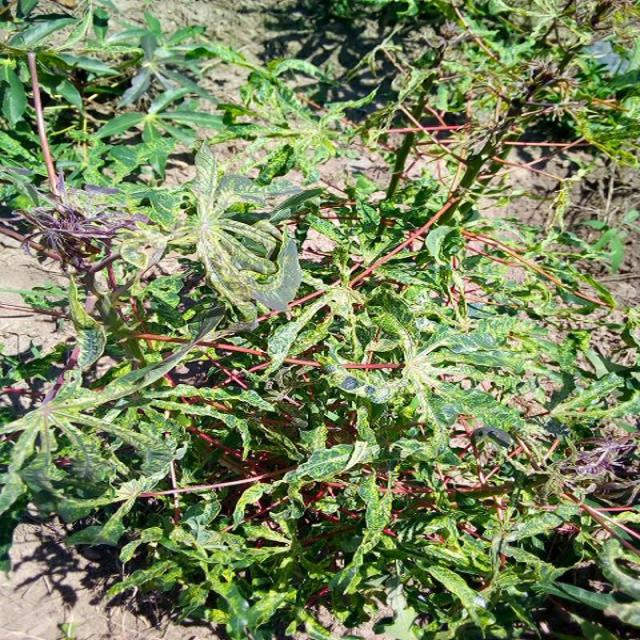cassava leaf: (169, 140, 303, 323)
